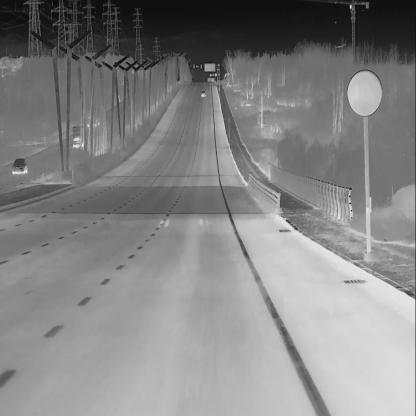car: (12, 157, 29, 174), (200, 90, 206, 98)
truck: (72, 122, 86, 150)
